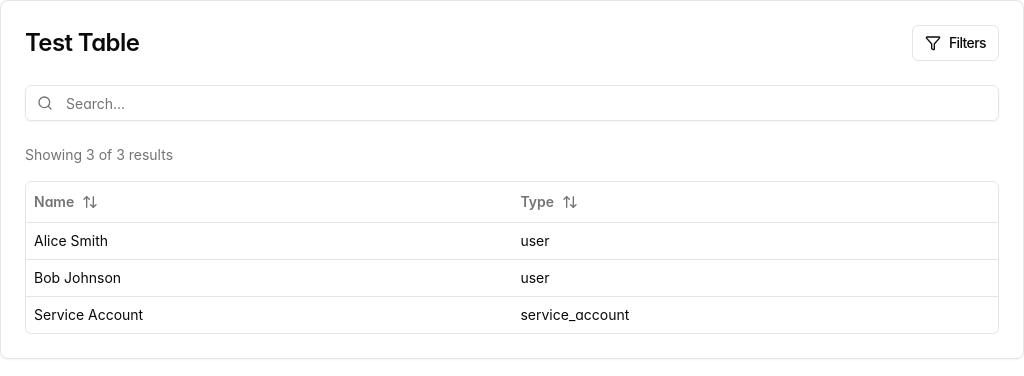
Test: DataTable Search Functionality › should sort data correctly
Expected: the row "Alice Smith user" is shown, left=26, top=222, right=998, bottom=259
Note: Click to sort by name ascending
Click the button "Name": click(66, 202) left=34, top=192, right=98, bottom=212
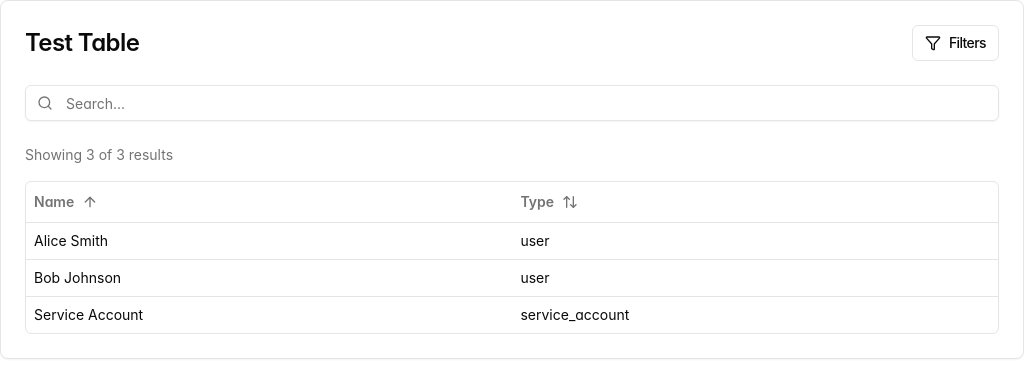
Expected: the row "Alice Smith user" is shown, left=26, top=222, right=998, bottom=259
Note: Click again to sort descending
Click the button "Name": click(66, 202) left=34, top=192, right=98, bottom=212
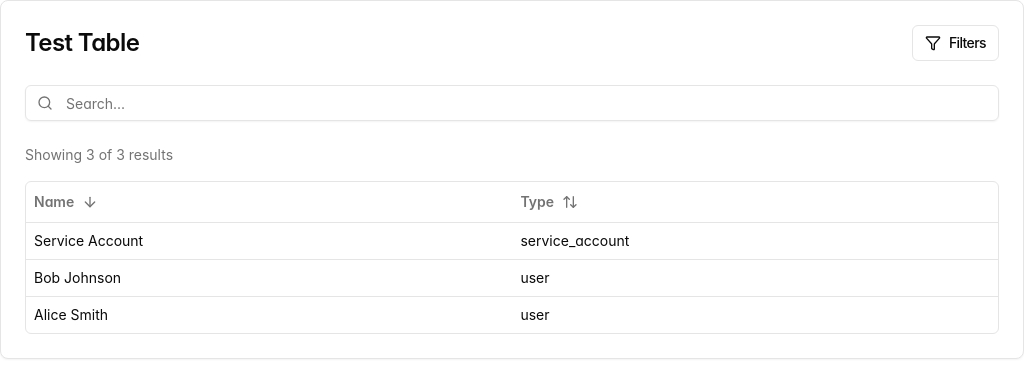
Expected: the row "Service Account service_account" is shown, left=26, top=222, right=998, bottom=259
